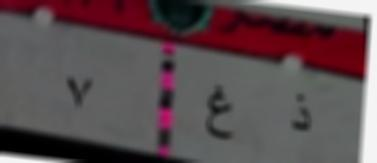7: (61, 70, 99, 112)
ghayn: (202, 81, 238, 144)
zaal: (284, 89, 316, 137)
